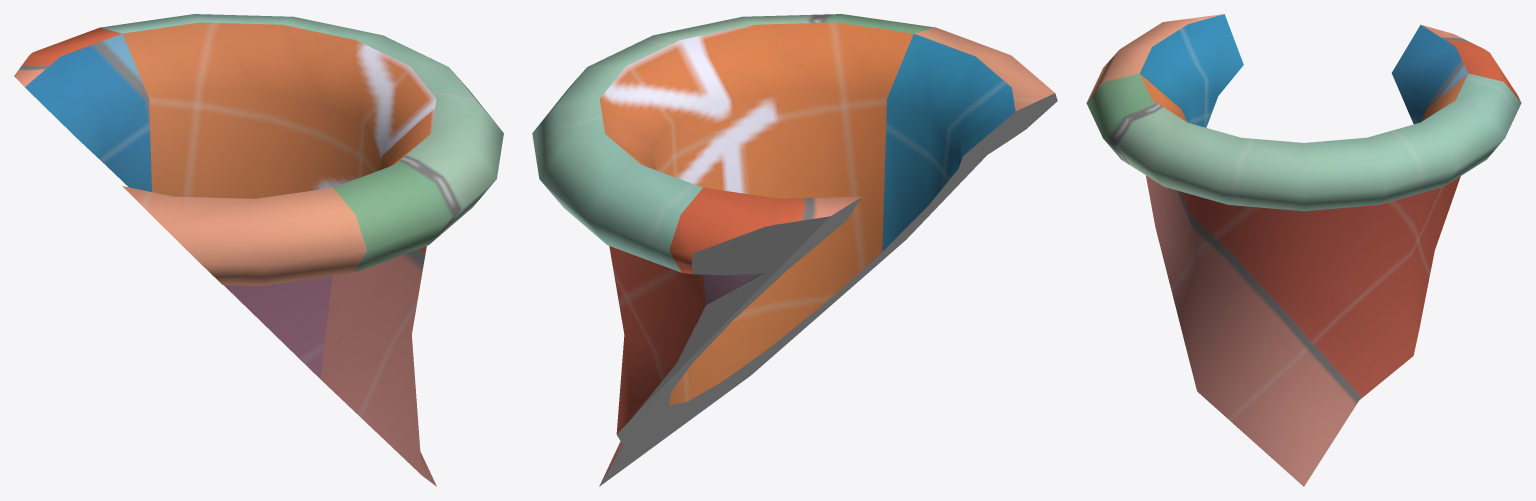
File: MediumVase_SHAT_cell_008.fbx
3 renders of one model, left to right at view 1: azimuth 30°, elevation 25°; view 2: azimuth 150°, elevation 25°; view 3: azimuth 270°, elevation 25°, orthographic. The views are drawn at different scales.
Visible parts, largest first — view 1: MediumVase_SHAT_cell_008; view 2: MediumVase_SHAT_cell_008; view 3: MediumVase_SHAT_cell_008.
Boxes of the visible parts, x1,y1,x2,y2 form: MediumVase_SHAT_cell_008: (14, 14, 503, 486); MediumVase_SHAT_cell_008: (532, 14, 1057, 486); MediumVase_SHAT_cell_008: (1086, 14, 1521, 486).
Size of the model in its own units: 0.2975 by 0.3055 by 0.361.
2 materials, 1 textured.
